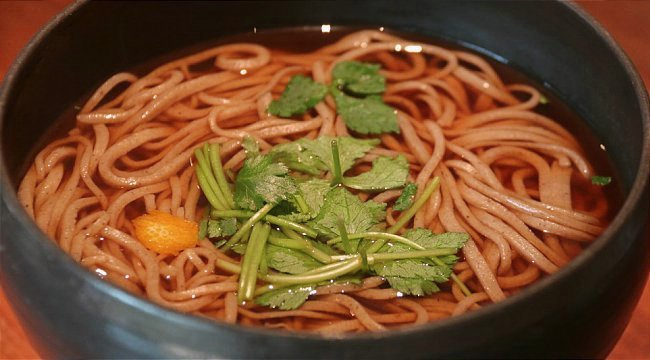Soba: (15, 39, 627, 338)
